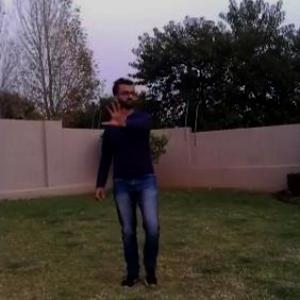follow_hand: (99, 92, 132, 128)
